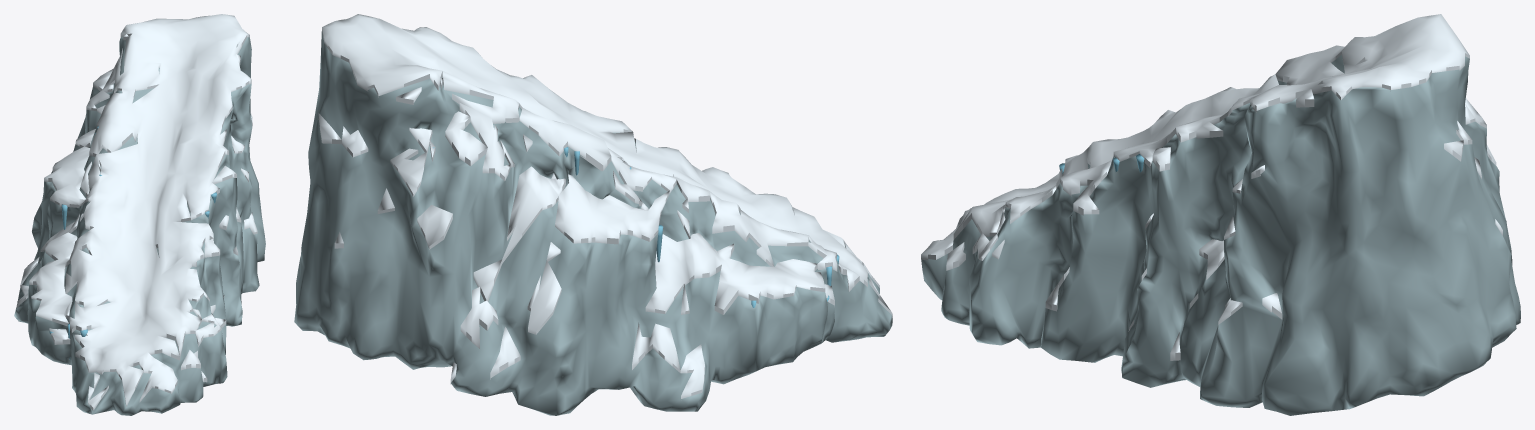
Rendered from ThirdRoom_RockRamp.fbx.
The picture shows the model from 3 angles, left to right: view 1: azimuth 30°, elevation 25°; view 2: azimuth 150°, elevation 25°; view 3: azimuth 270°, elevation 25°; orthographic projection. The views are drawn at different scales.
Visible parts, largest first — view 1: ThirdRoom_RockRamp_LOD0; view 2: ThirdRoom_RockRamp_LOD0; view 3: ThirdRoom_RockRamp_LOD0.
Boxes of the visible parts, x1,y1,x2,y2 form: ThirdRoom_RockRamp_LOD0: [14, 14, 265, 415]; ThirdRoom_RockRamp_LOD0: [294, 14, 892, 415]; ThirdRoom_RockRamp_LOD0: [921, 14, 1520, 415].
Size of what is drawn, in the model's own units: 5.13 by 4.22 by 6.01.
